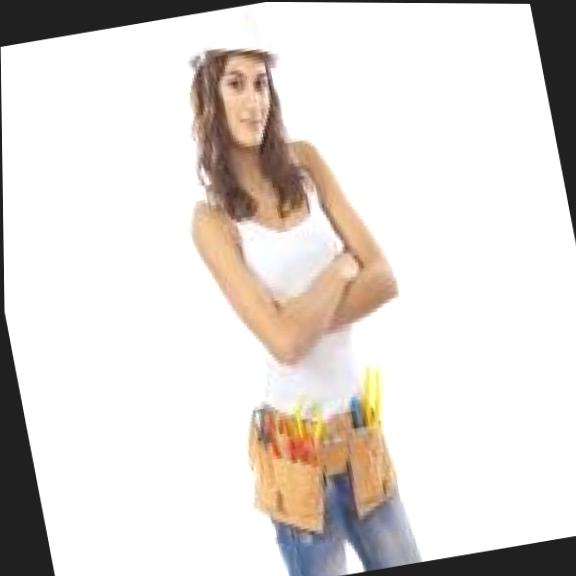no_safety_vest: (185, 126, 387, 417)
